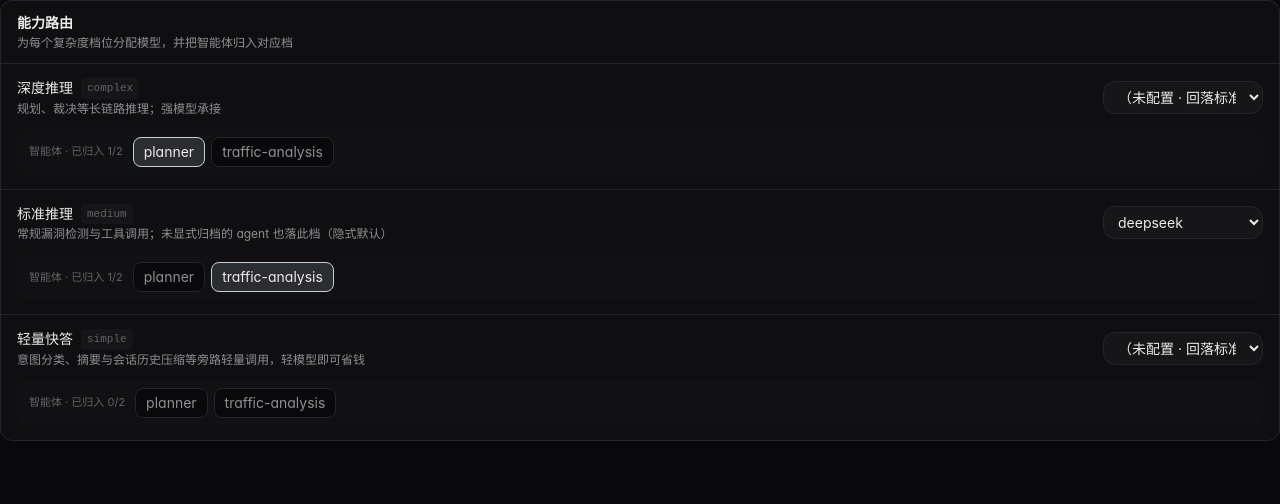
AssignmentView › 保存失败乐观回滚并页面内回显原因（无 window.alert）
Select "qwen" in the dropdown named "标准推理 绑定部署": (1183, 223) x1=1103 y1=206 x2=1263 y2=239
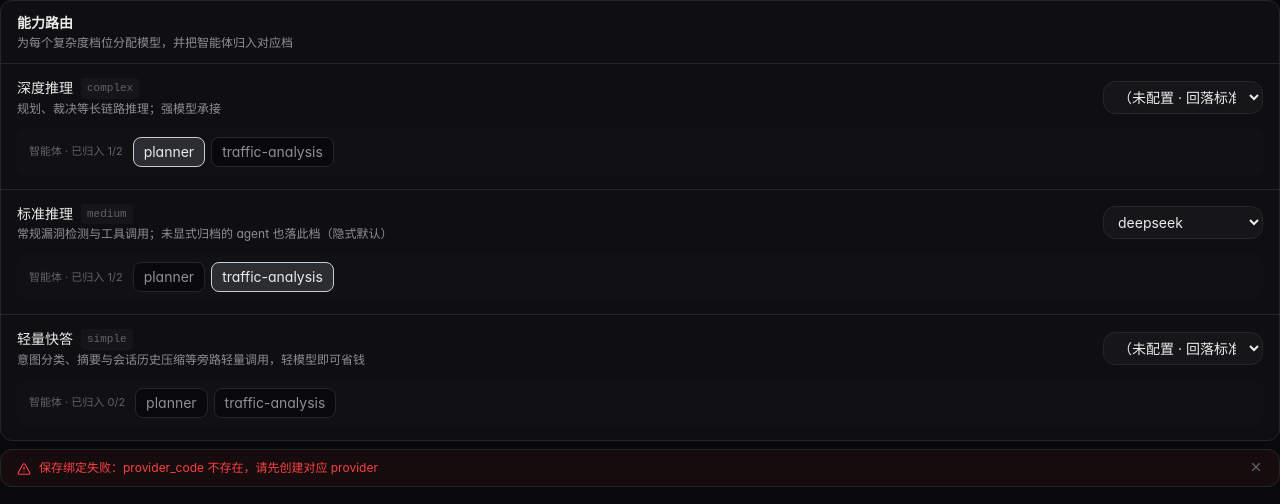
expect the text "保存绑定失败：provider_code 不存在，请先创建对应 provider" is shown: met, box x1=39 y1=460 x2=378 y2=474
